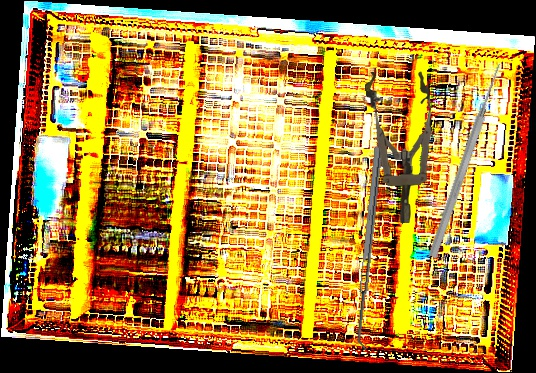Pusher: (426, 61, 506, 260)
Spatula Surgical: (353, 146, 391, 351)
Speculum: (364, 68, 437, 226)
